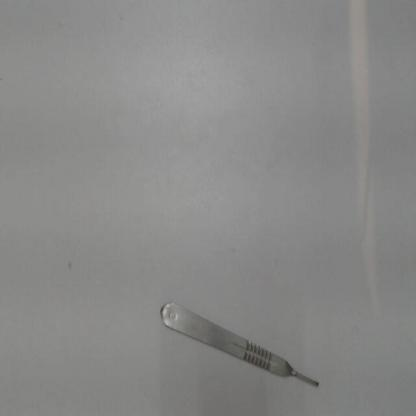No.3 BP Handle: (154, 290, 330, 397)
